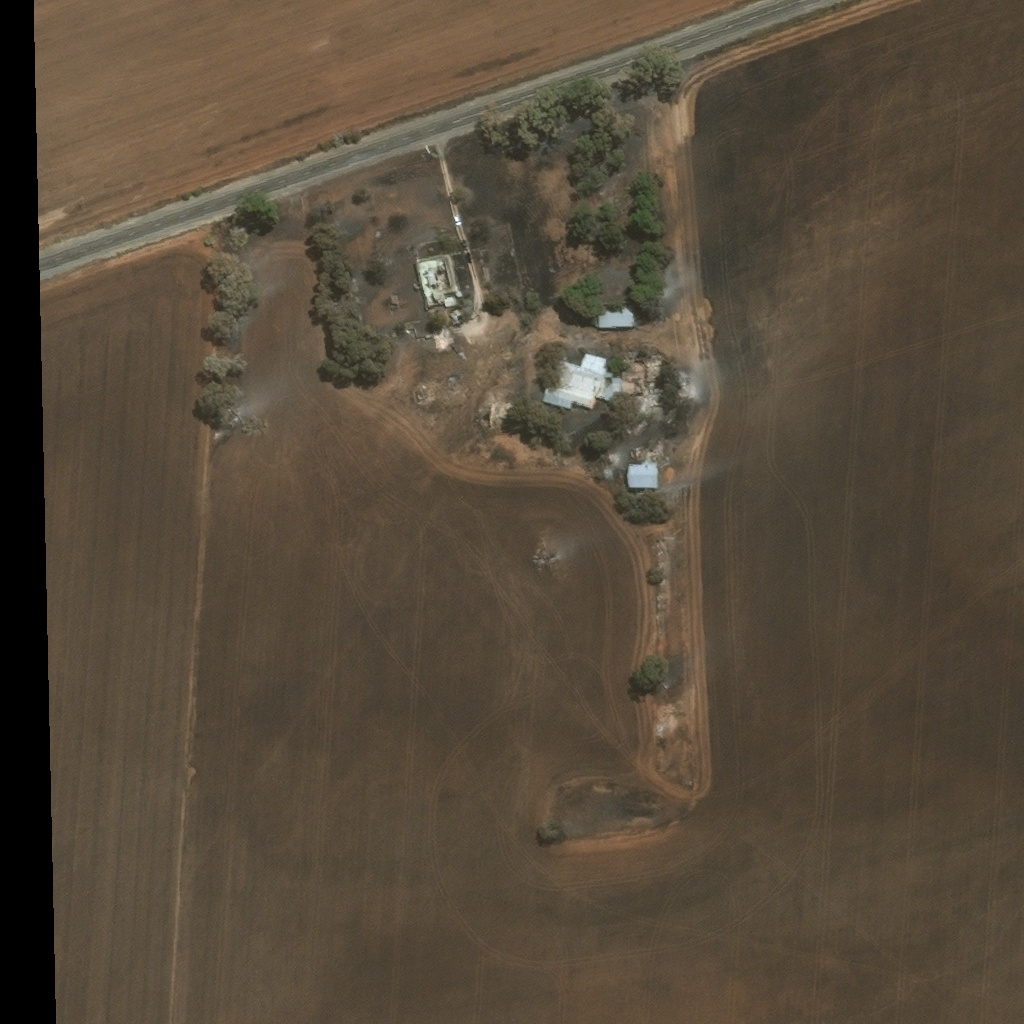0 no-damage: (596, 301, 635, 325)
1 minor-damage: (629, 460, 660, 486)
2 major-damage: (543, 351, 647, 407)
3 destroyed: (416, 253, 457, 307), (432, 327, 448, 347), (647, 391, 667, 406)
